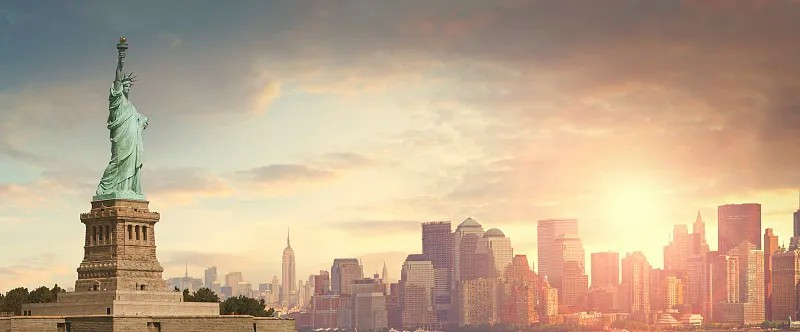SL: (75, 36, 167, 291)
